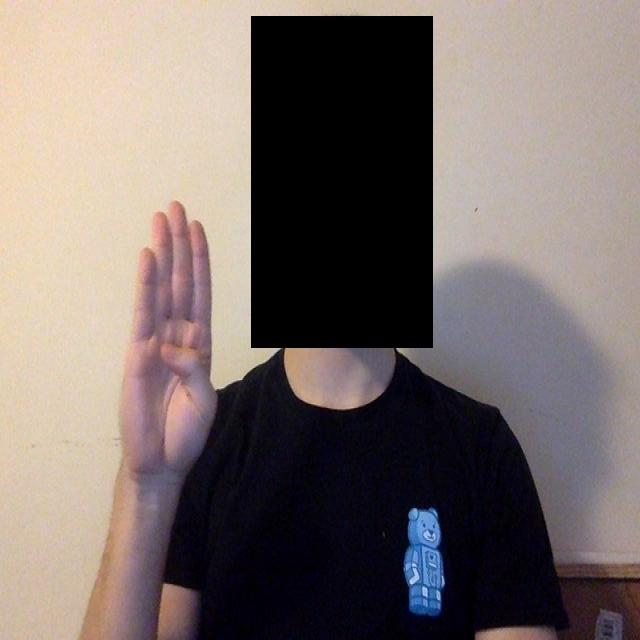B: (102, 169, 247, 491)
